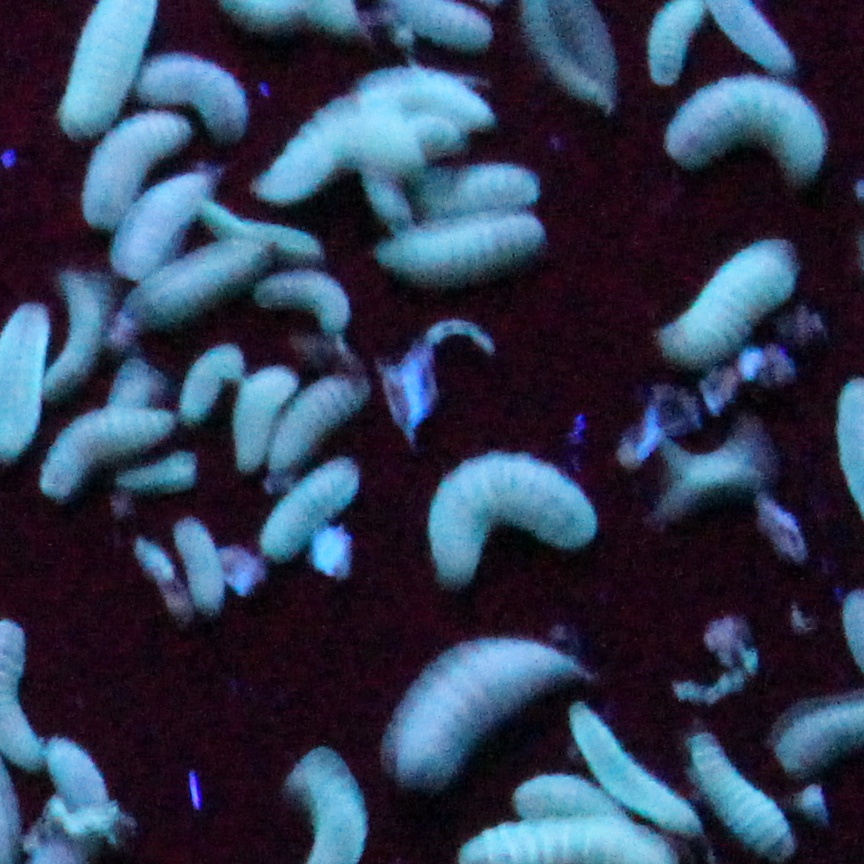larve: (388, 623, 586, 784), (412, 440, 609, 592), (647, 220, 804, 381), (557, 698, 710, 842), (652, 69, 842, 174), (370, 195, 553, 295), (78, 99, 194, 236), (37, 397, 184, 496), (253, 454, 375, 566), (137, 43, 257, 140), (171, 513, 239, 620), (168, 338, 245, 427)
